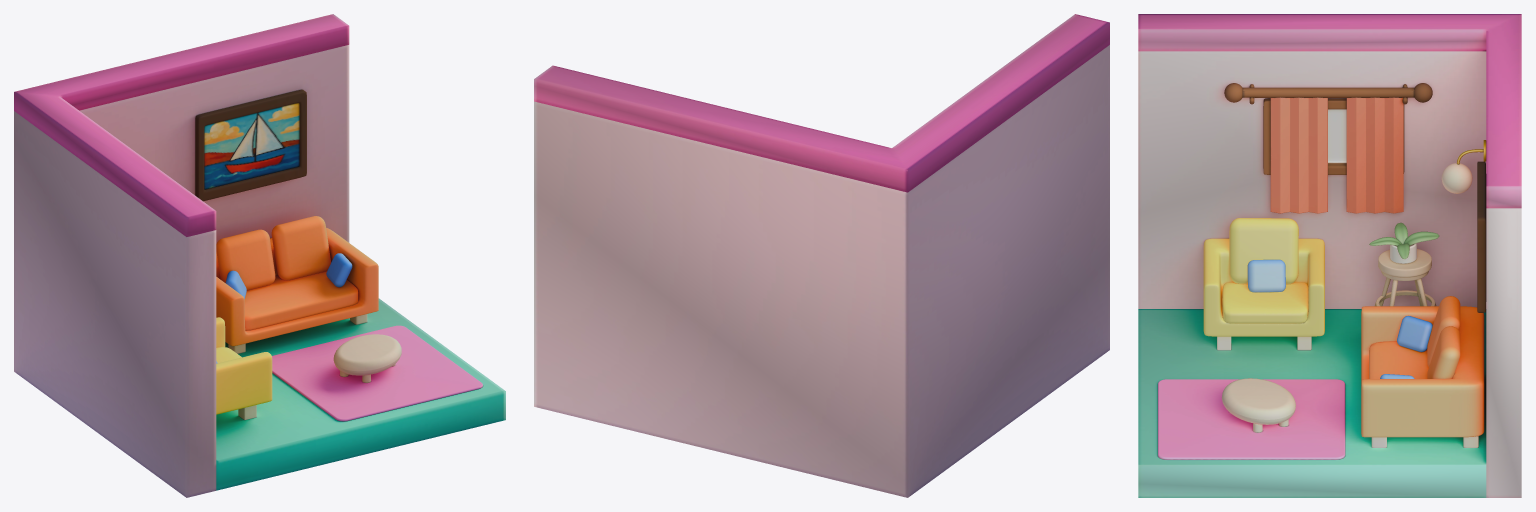
Rendered from room.baked.glb.
The picture shows the model from 3 angles, left to right: view 1: azimuth 30°, elevation 25°; view 2: azimuth 150°, elevation 25°; view 3: azimuth 270°, elevation 25°; orthographic projection. The views are drawn at different scales.
Visible parts, largest first — view 1: Wall_Baked, Floor_Baked, Wall.002_Baked, Rug_Baked, Painting.001_Baked, Sofa_Baked, Sofa.003_Baked, Frame_Baked, Sofa.002_Baked, Pillow_Baked, Pillow.001_Baked, Table_Baked (+1 smaller); view 2: Wall_Baked, Wall.002_Baked; view 3: Wall_Baked, Floor_Baked, Wall.002_Baked, Curtains_Baked, Rug_Baked, Sofa_Baked, Sofa.002_Baked, Pillow.004_Baked, Sofa.001_Baked, Table_Baked, Window_Baked, Window.001_Baked (+12 smaller).
Part boxes in pixels (box(x1,y1,x2,y2)): Wall_Baked: box(14, 45, 349, 497); Floor_Baked: box(216, 298, 505, 490); Wall.002_Baked: box(14, 14, 349, 236); Rug_Baked: box(272, 325, 482, 421); Painting.001_Baked: box(204, 103, 299, 189); Sofa_Baked: box(216, 227, 378, 346); Sofa.003_Baked: box(244, 271, 358, 330); Frame_Baked: box(195, 89, 306, 201); Sofa.002_Baked: box(216, 317, 272, 414); Pillow_Baked: box(271, 216, 330, 280); Pillow.001_Baked: box(216, 229, 275, 290); Table_Baked: box(333, 334, 401, 375); Wall_Baked: box(534, 45, 1109, 497); Wall.002_Baked: box(534, 14, 1109, 192); Wall_Baked: box(1138, 51, 1521, 497); Floor_Baked: box(1138, 309, 1486, 497); Wall.002_Baked: box(1138, 14, 1521, 208); Curtains_Baked: box(1270, 97, 1403, 213); Rug_Baked: box(1158, 379, 1345, 459); Sofa_Baked: box(1361, 306, 1484, 437); Sofa.002_Baked: box(1203, 238, 1324, 336); Pillow.004_Baked: box(1229, 218, 1298, 284); Sofa.001_Baked: box(1222, 282, 1308, 323); Table_Baked: box(1221, 378, 1295, 424); Window_Baked: box(1263, 98, 1404, 174); Window.001_Baked: box(1242, 87, 1414, 97).
Size of what is drawn, in the model's own units: 0.559 by 0.4682 by 0.5234.
Materials: 2 (2 with a texture image).
